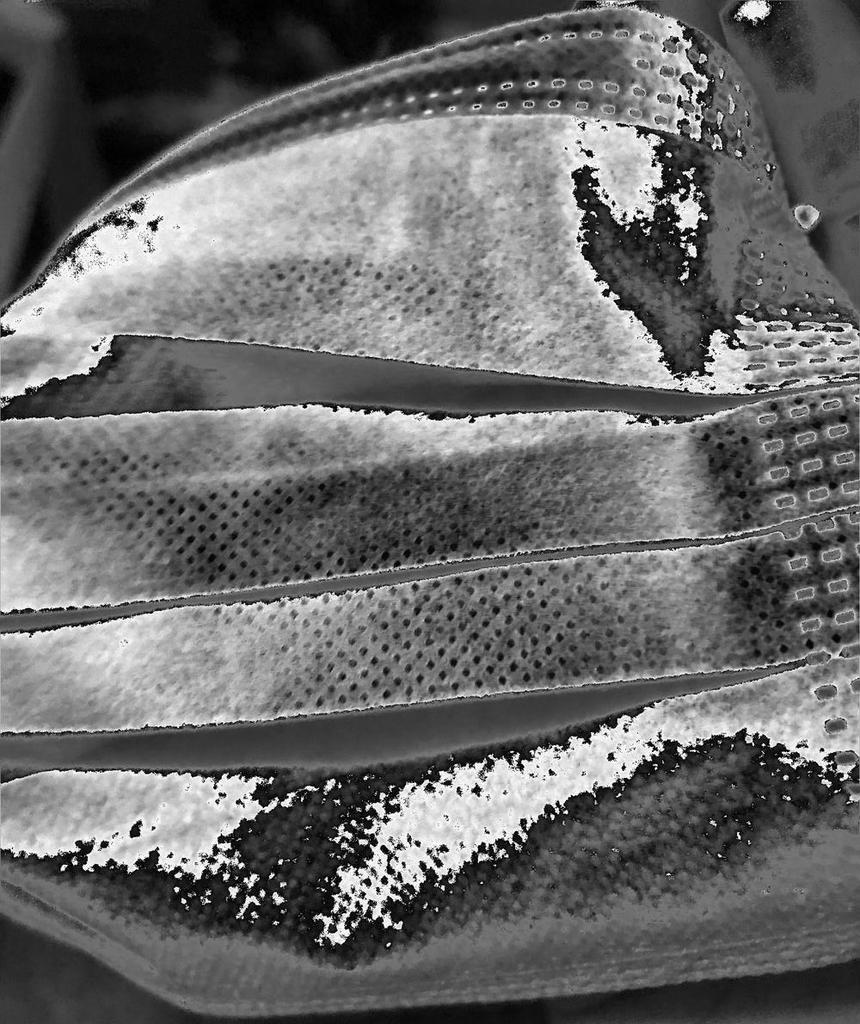Low GSM: (25, 132, 757, 942)
